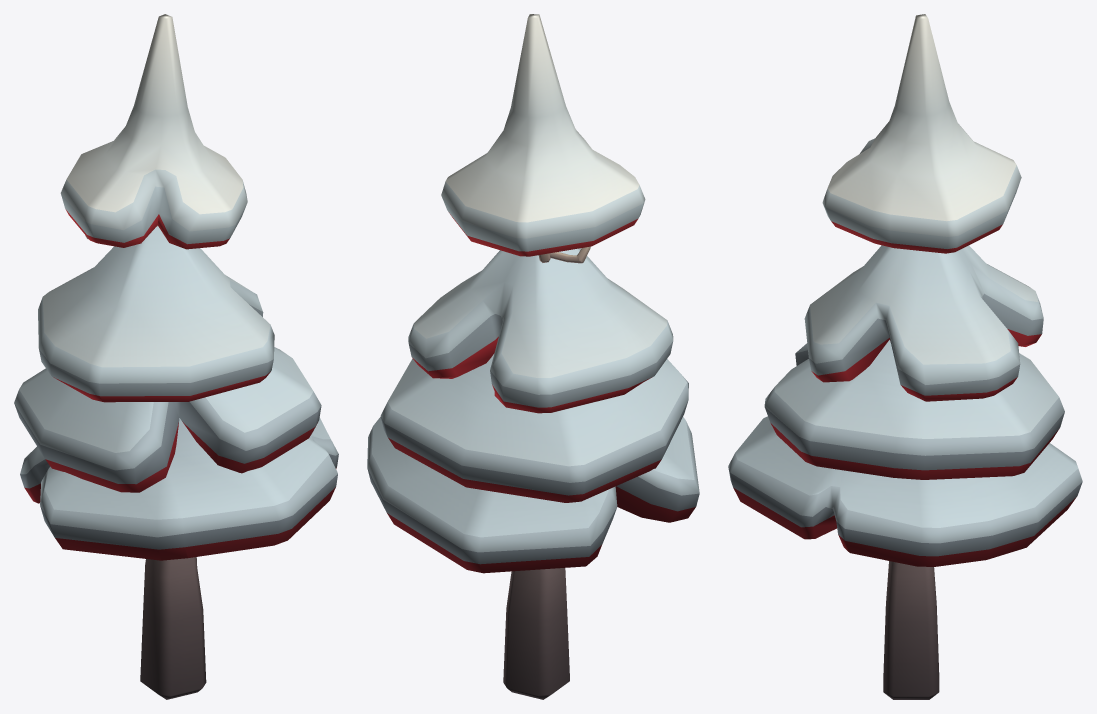
Rendered from pine_tree_col3_09_snow.fbx.
3 renders of one model, left to right at view 1: azimuth 30°, elevation 25°; view 2: azimuth 150°, elevation 25°; view 3: azimuth 270°, elevation 25°, orthographic.
Visible parts, largest first — view 1: pine_tree_col3_09_snow; view 2: pine_tree_col3_09_snow; view 3: pine_tree_col3_09_snow.
Part boxes in pixels (x1,y1,x2,y2): pine_tree_col3_09_snow: (14,14,338,699); pine_tree_col3_09_snow: (367,14,699,699); pine_tree_col3_09_snow: (728,14,1082,699).
Size of the model in its own units: 384 by 830 by 395.
Materials: 1 (1 with a texture image).
